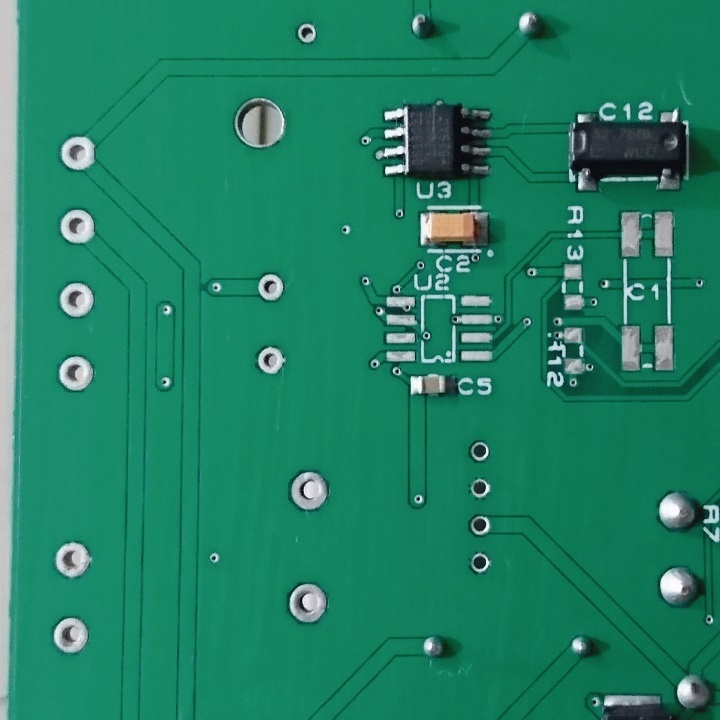F: (284, 467, 331, 512), (56, 132, 101, 178), (286, 581, 330, 626), (54, 206, 98, 249), (54, 278, 99, 320), (53, 538, 95, 582), (51, 613, 92, 656), (56, 352, 96, 395), (253, 342, 288, 376), (252, 272, 288, 304), (294, 18, 319, 47), (467, 513, 492, 537), (469, 440, 492, 465), (468, 550, 490, 575), (467, 477, 490, 500)
